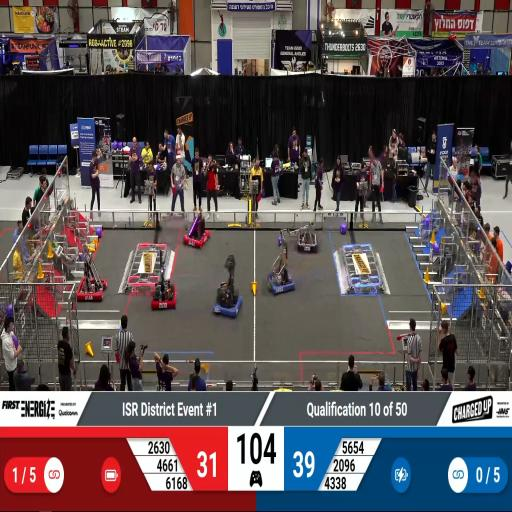robot: (75, 268, 111, 302), (266, 259, 296, 298), (210, 281, 240, 317), (184, 211, 212, 249), (151, 279, 179, 312), (296, 224, 319, 254)
